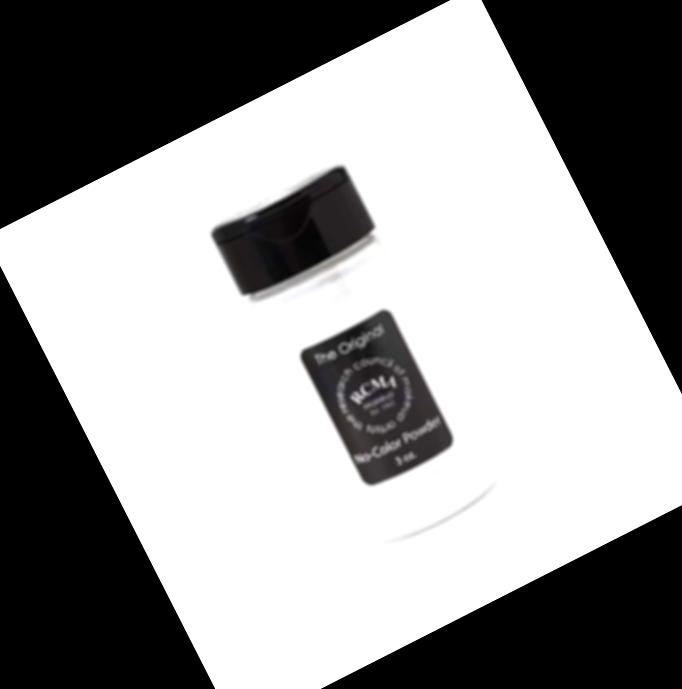cosmetic: (202, 157, 513, 554)
